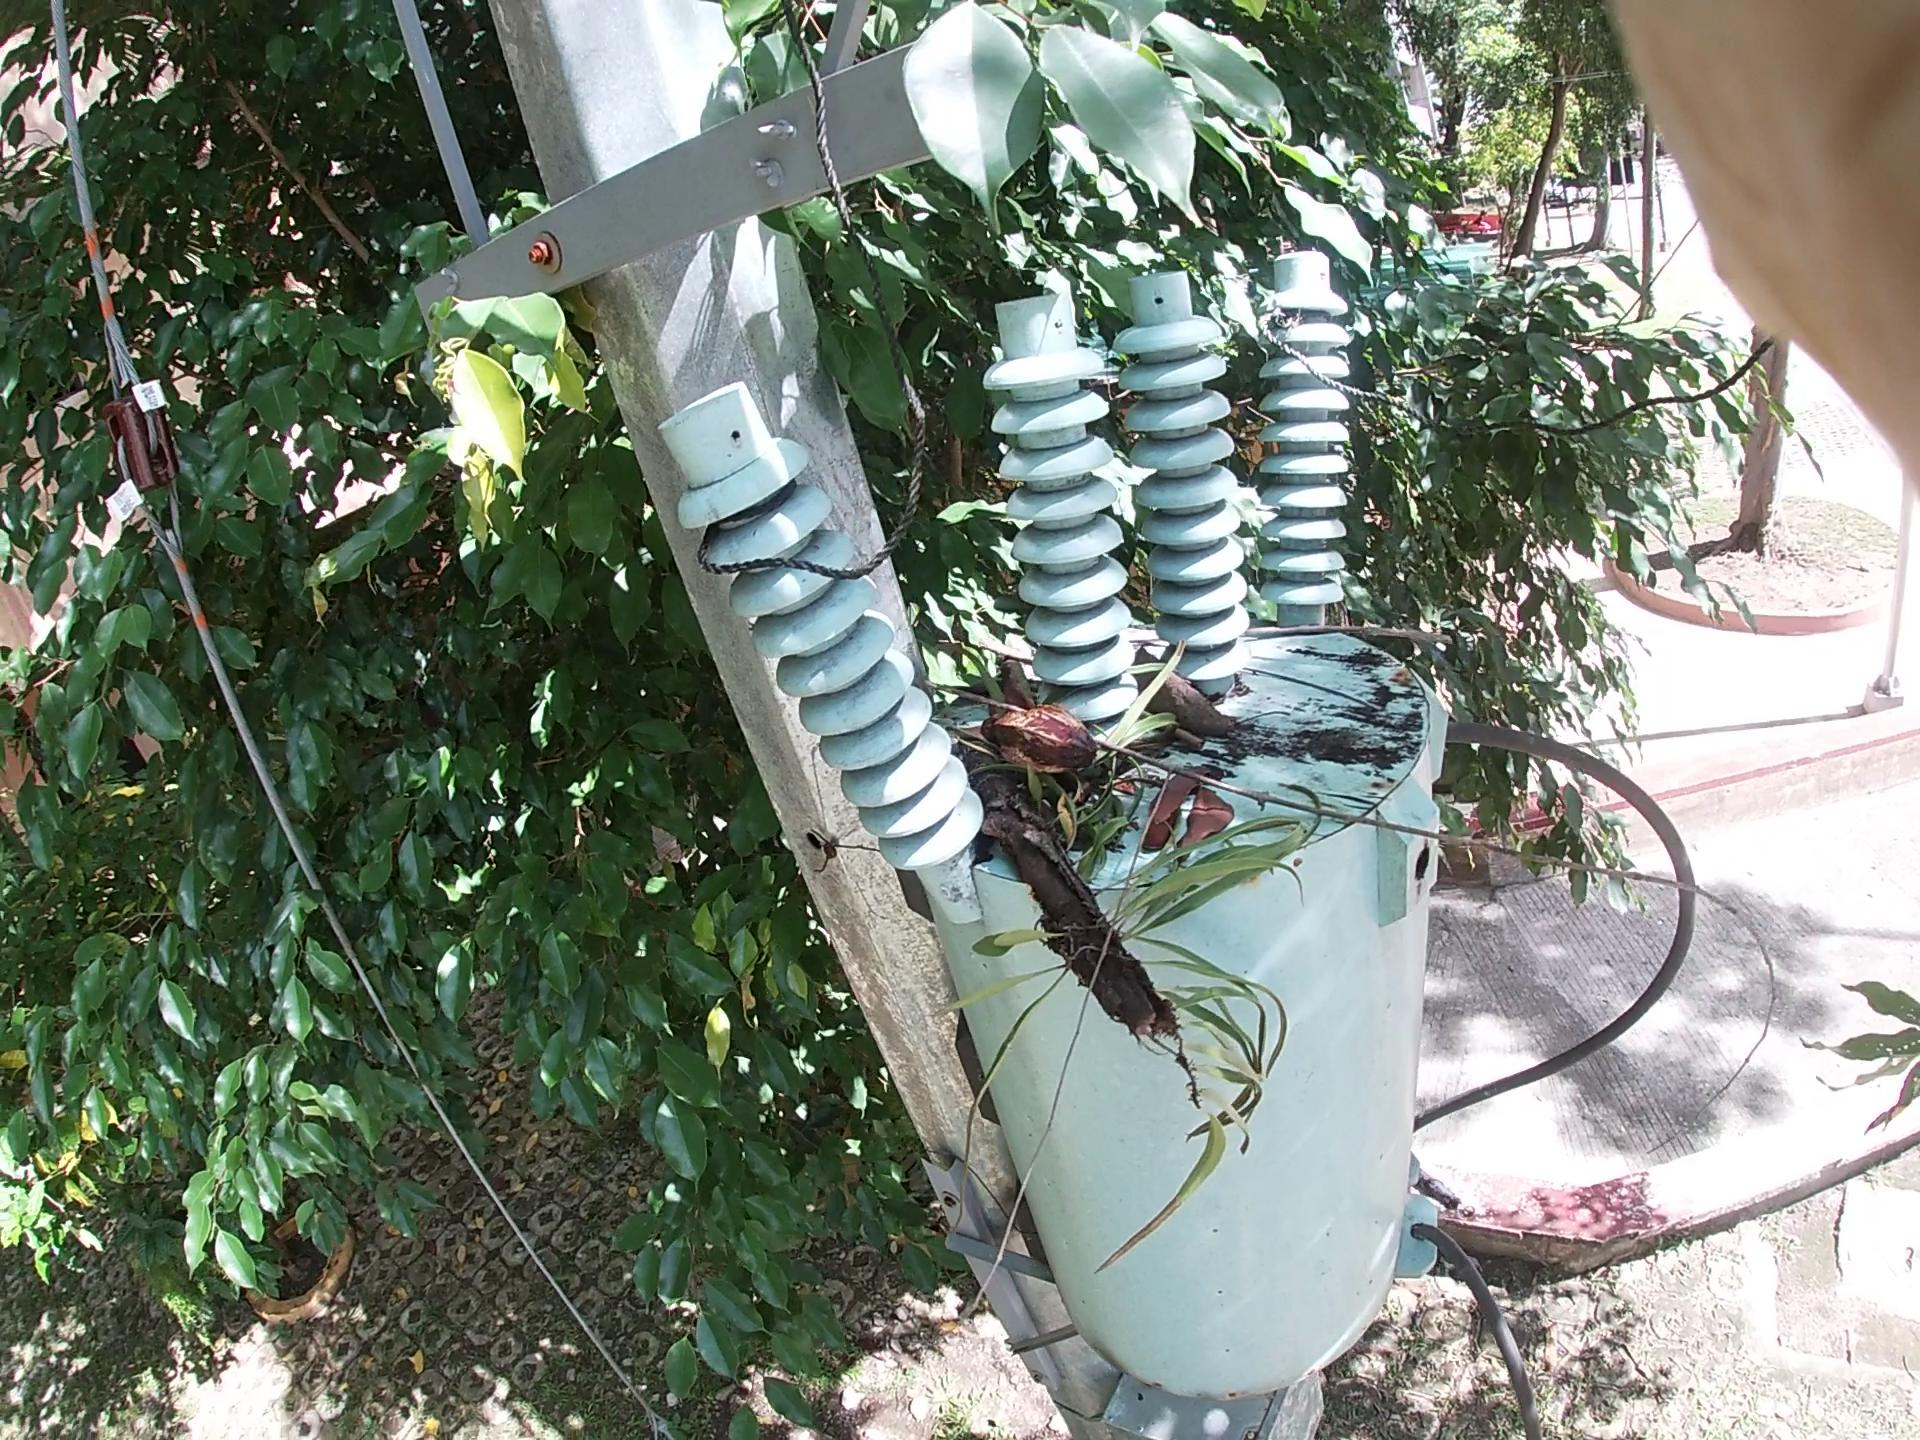branch with leaves: (909, 678, 1243, 1128)
leaf: (1073, 749, 1365, 849)
mahogany fruit: (948, 672, 1184, 774), (1138, 653, 1261, 743)
tree branch: (971, 611, 1905, 1024), (1160, 564, 1485, 702)
